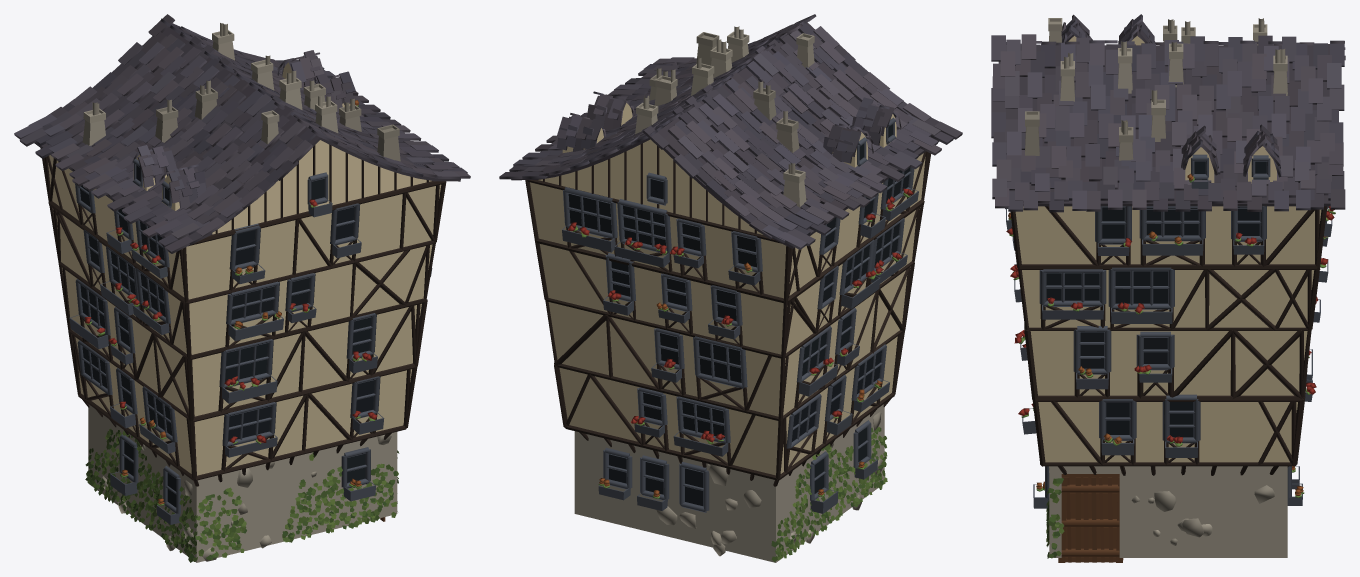
Rendered from house_30.glb.
3 views of the same model, side by side, from view 1: azimuth 30°, elevation 25°; view 2: azimuth 150°, elevation 25°; view 3: azimuth 270°, elevation 25° (orthographic). The views are drawn at different scales.
Visible parts, largest first — view 1: house_30; view 2: house_30; view 3: house_30.
Boxes of the visible parts, left/top/right/bottom form: house_30: left=14, top=14, right=470, bottom=562; house_30: left=499, top=14, right=962, bottom=562; house_30: left=991, top=14, right=1345, bottom=562.
Size of the model in its own units: 8.61 by 11.98 by 7.89.
